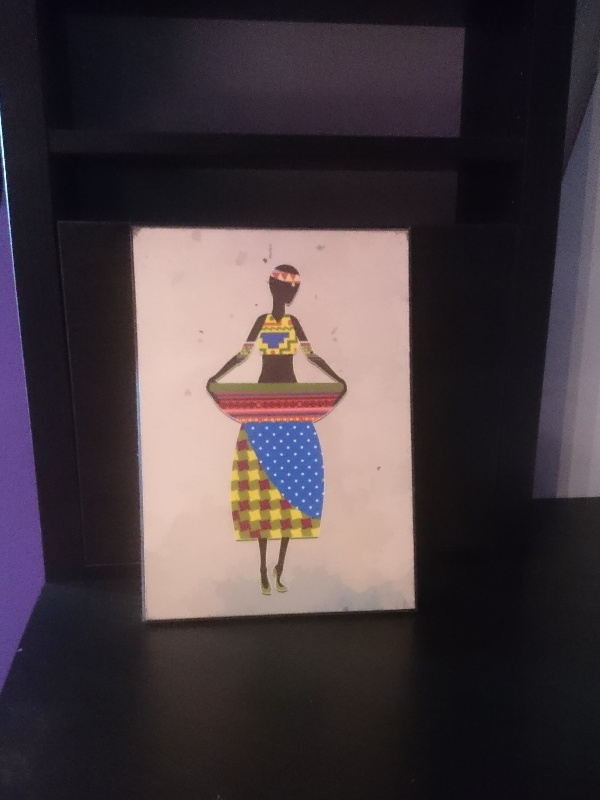my image: (136, 232, 409, 620)
